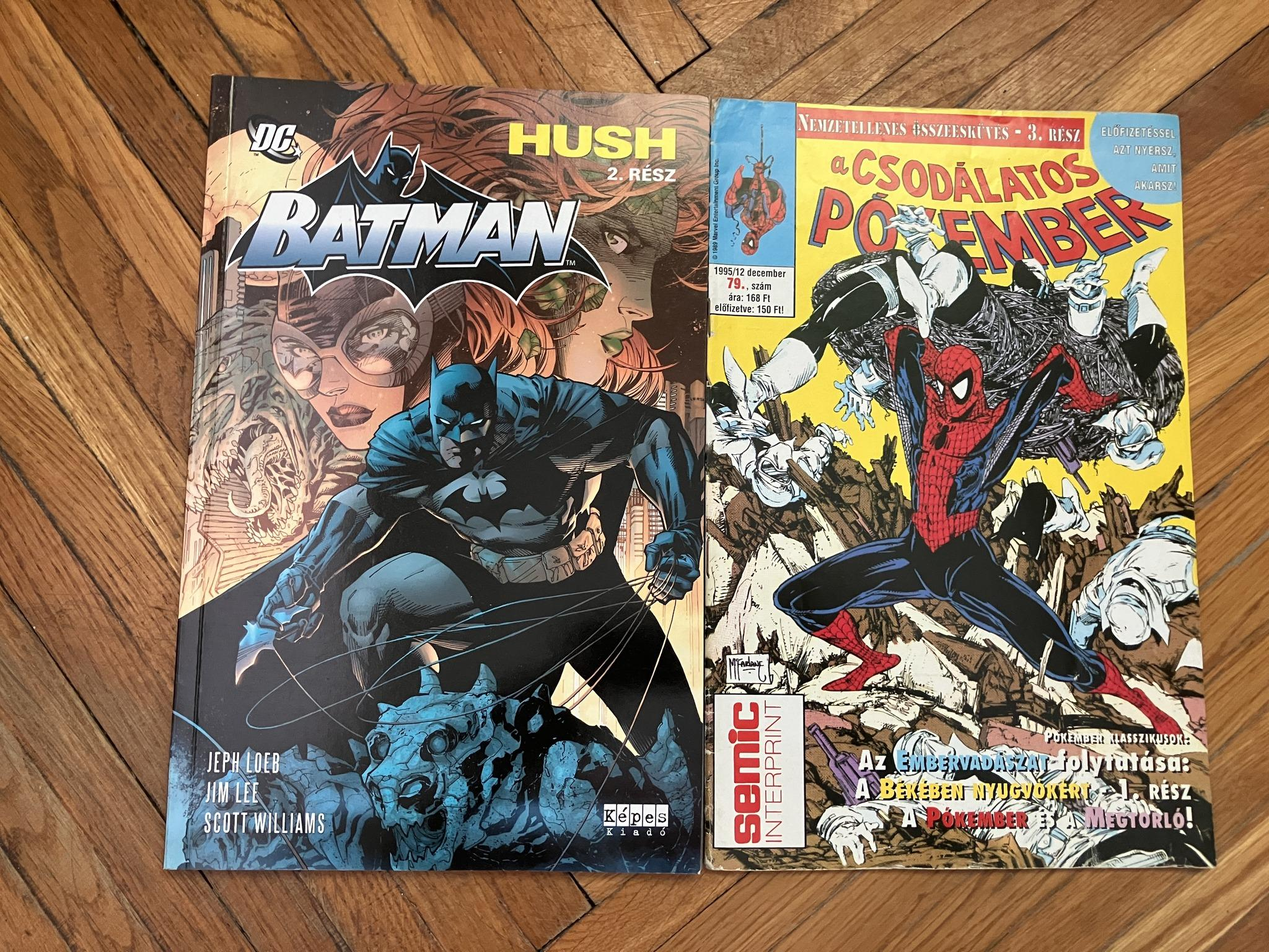comic: (165, 77, 716, 877), (700, 95, 1214, 871)
